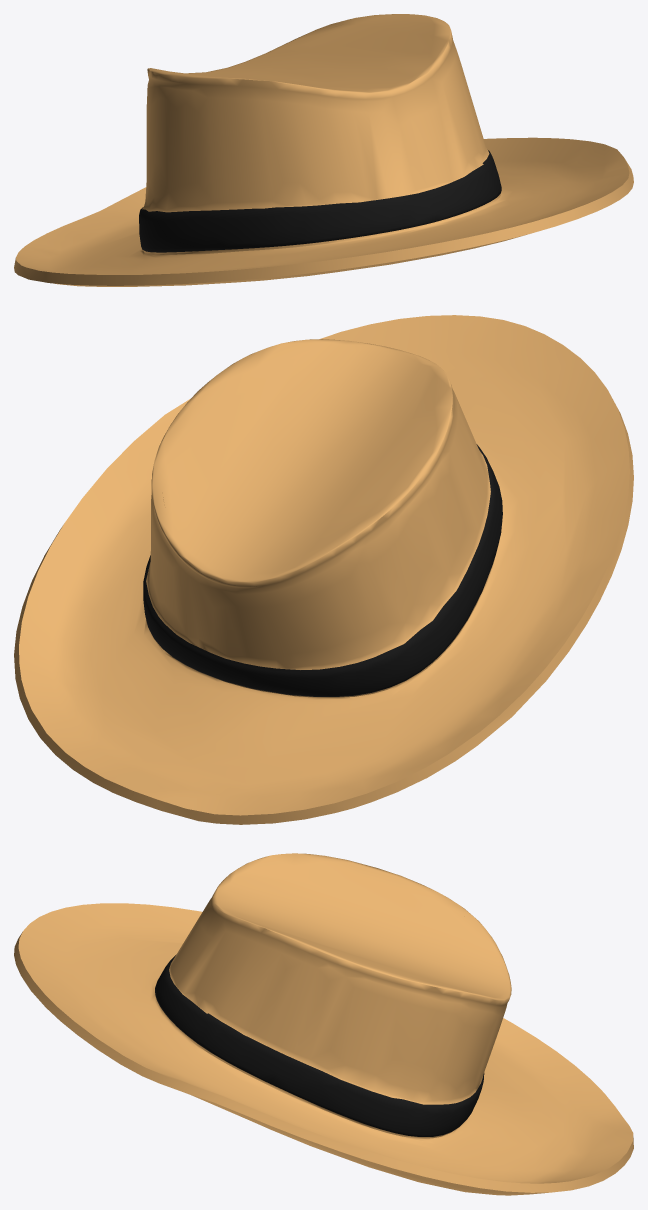
The model's file is headwear-hat-yellow-14b96924.glb.
The picture shows the model from 3 angles, top to bottom: view 1: azimuth 30°, elevation 25°; view 2: azimuth 150°, elevation 25°; view 3: azimuth 270°, elevation 25°; orthographic projection. The views are drawn at different scales.
Parts seen in each view (by area): view 1: Geo_Black_Older_Female_Hat_Yellow.001; view 2: Geo_Black_Older_Female_Hat_Yellow.001; view 3: Geo_Black_Older_Female_Hat_Yellow.001.
Part boxes in pixels (<box>): Geo_Black_Older_Female_Hat_Yellow.001: <box>14,14,633,286</box>; Geo_Black_Older_Female_Hat_Yellow.001: <box>14,315,633,824</box>; Geo_Black_Older_Female_Hat_Yellow.001: <box>14,853,633,1195</box>.
Size of the model in its own units: 2.66 by 1.51 by 3.31.
